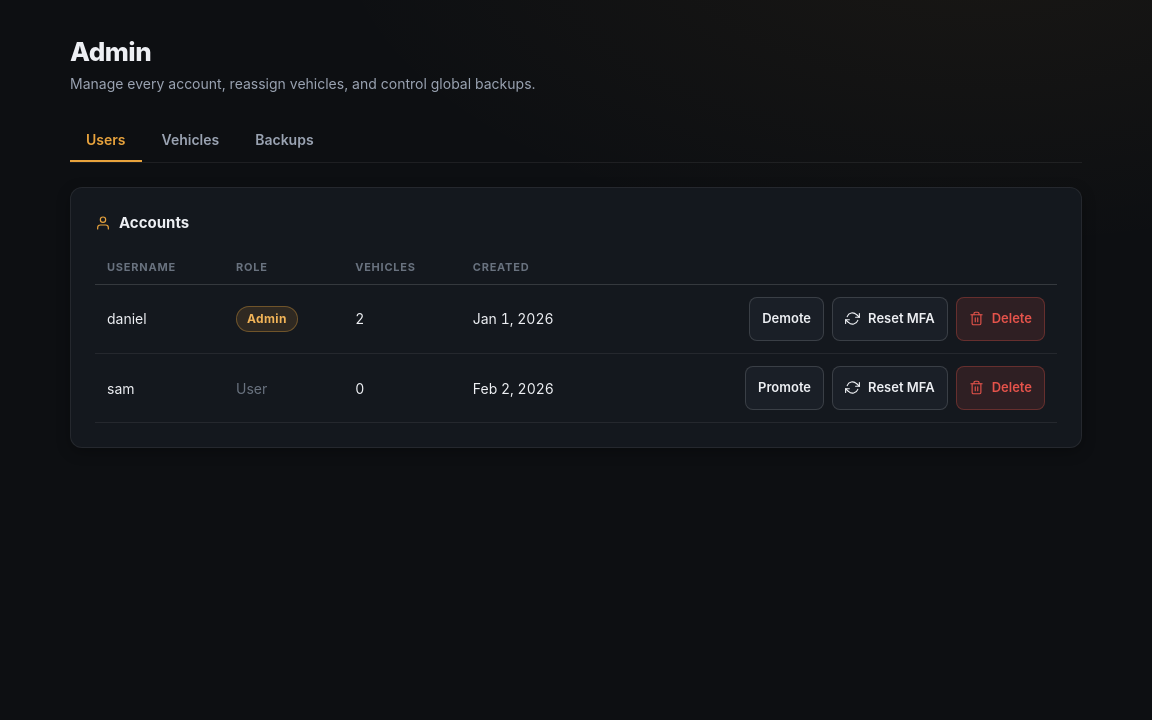
it: Admin — Vehicles tab › adopts all orphans onto the chosen user
Click the button "Vehicles".
click(190, 140)  # box [146,118,235,162]
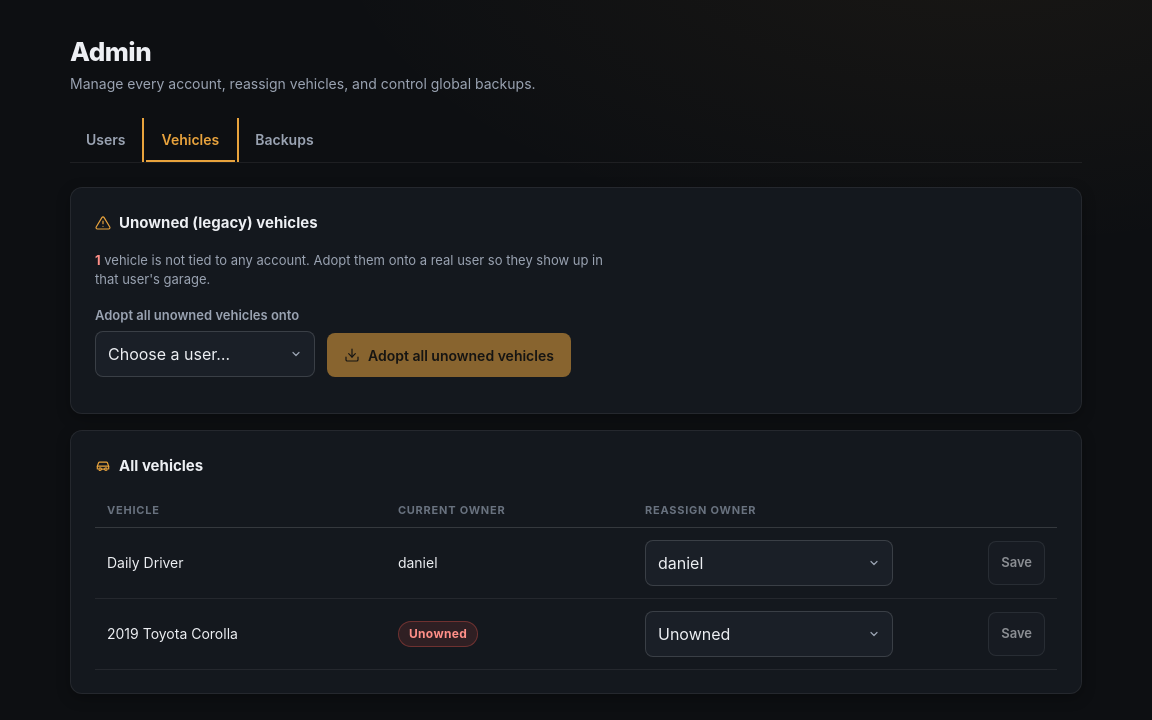
Now the heading "All vehicles" is shown, box [95,456,203,475]
Select "sam" in the dropdown named "Adopt unowned vehicles onto user" at (205, 354), box [95,331,315,377]
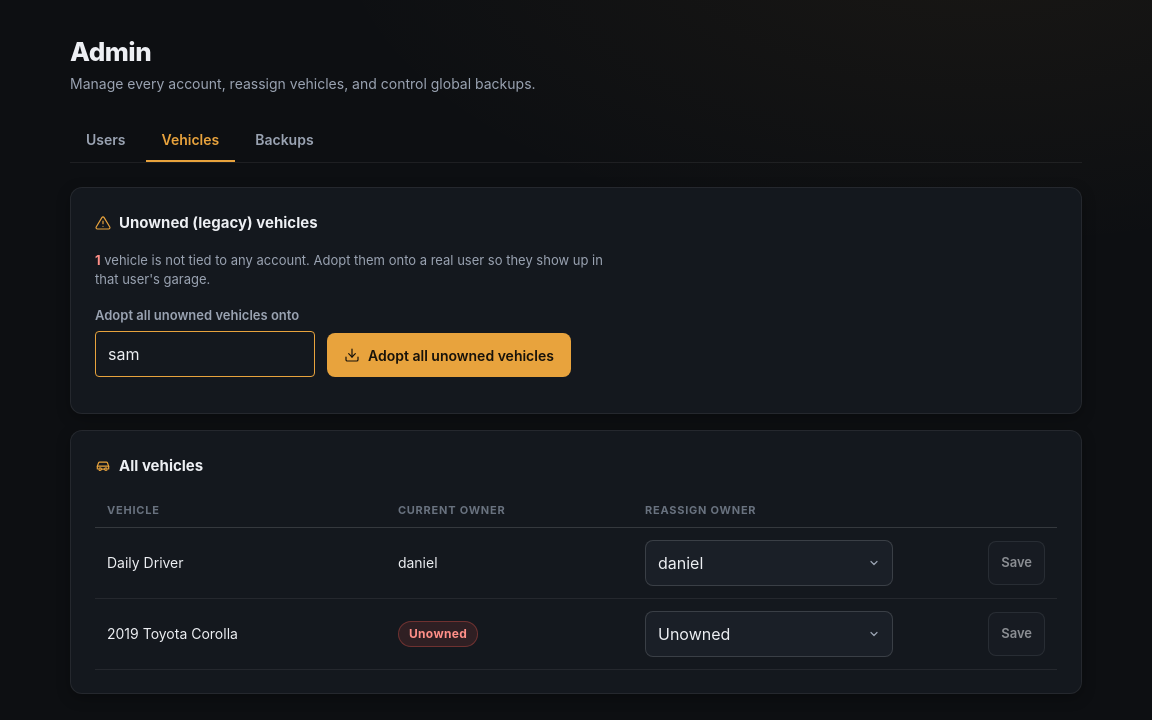
Click the button "Adopt all unowned vehicles".
click(449, 355)  # box [327,333,571,377]
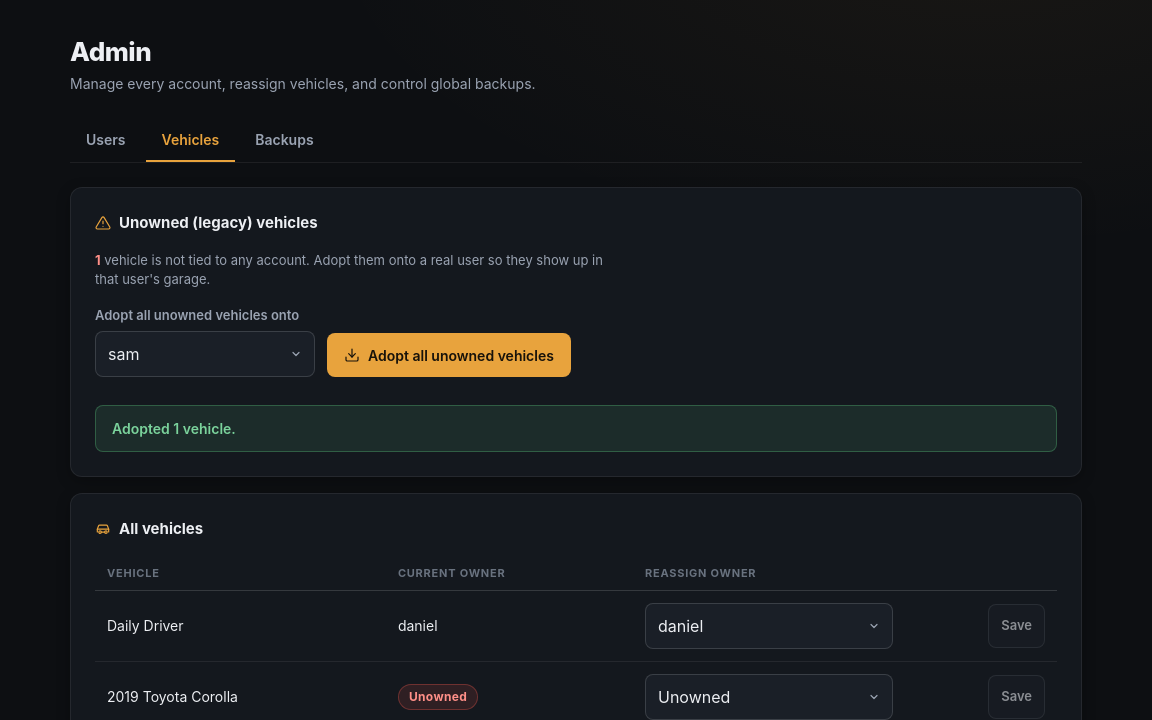
Now the text "Adopted 1 vehicle." is shown, box [95,405,1057,452]
